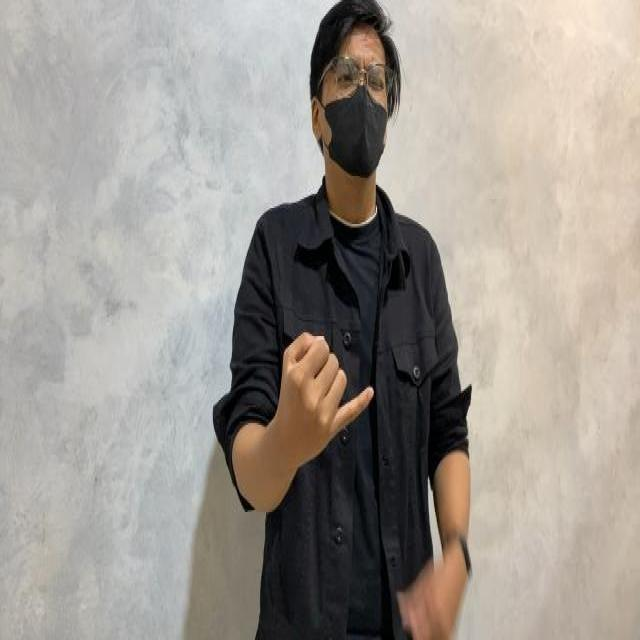J: (249, 314, 396, 454)
